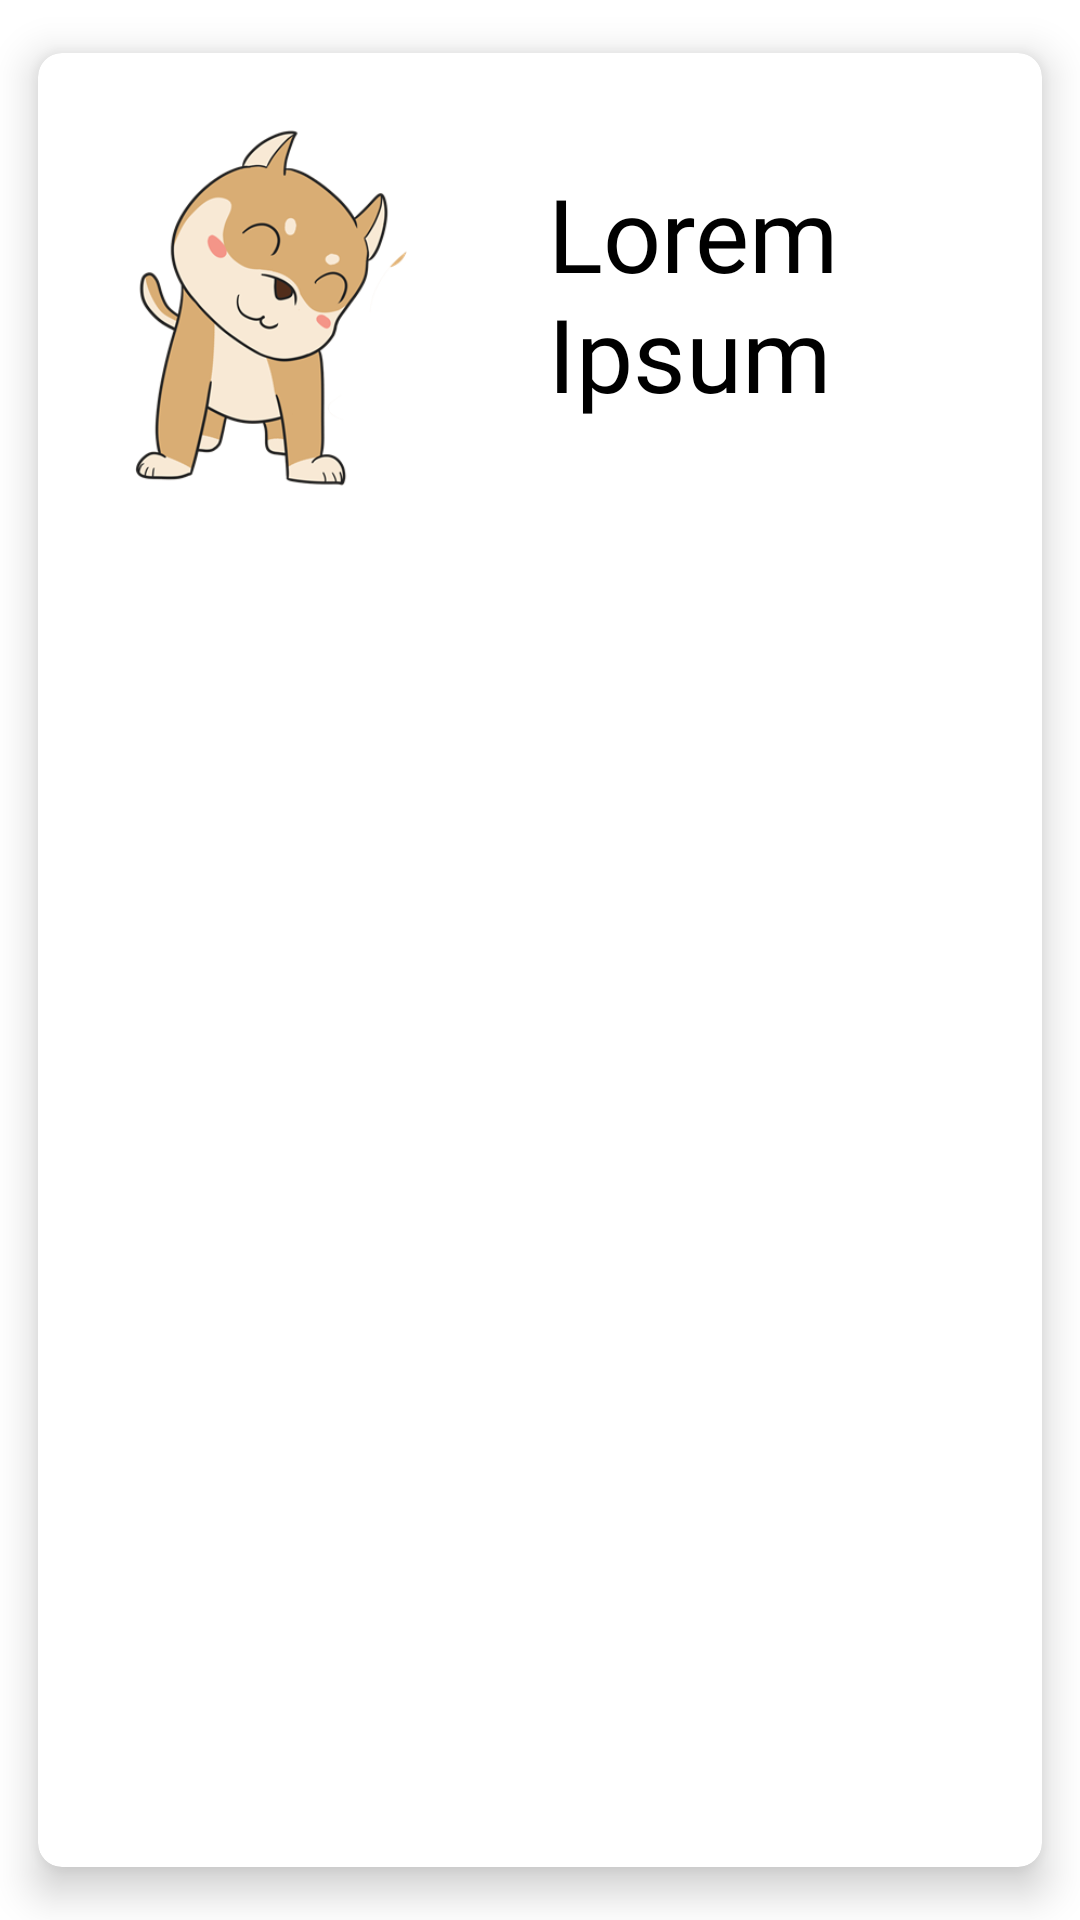

Icon click points for this 1080×1920 phone screenshot, format [x,y]:
mini dog: [271,308]
